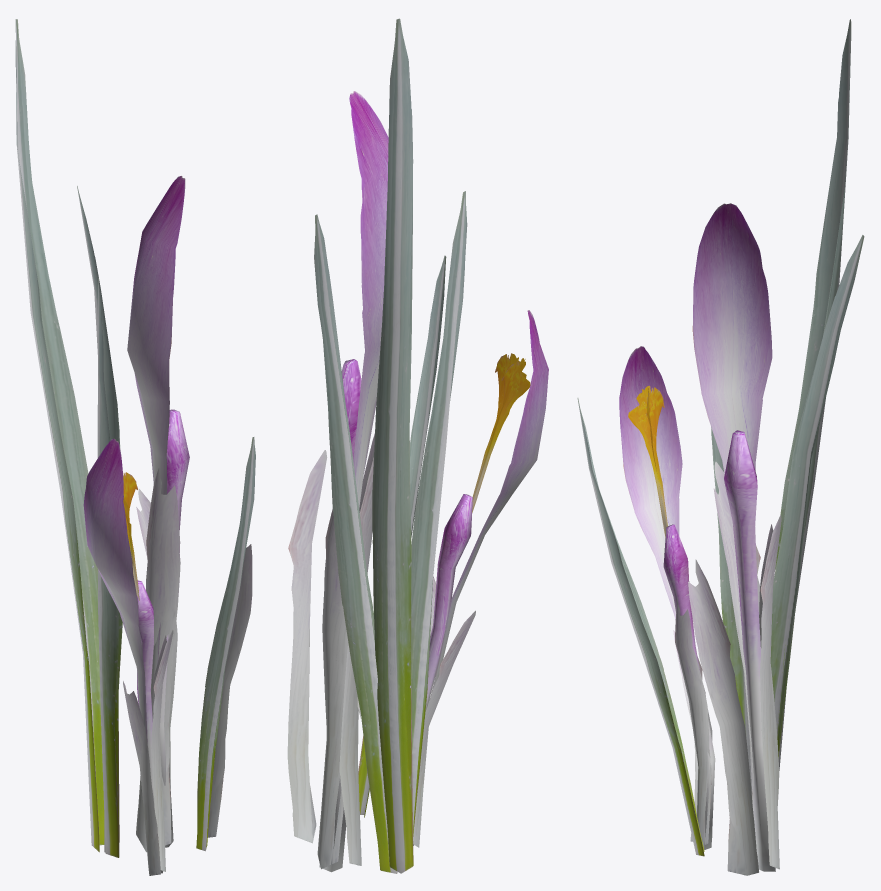
The model's file is flower_crocus_lod1.glb.
3 views of the same model, side by side, from view 1: azimuth 30°, elevation 25°; view 2: azimuth 150°, elevation 25°; view 3: azimuth 270°, elevation 25° (orthographic). The views are drawn at different scales.
Visible parts, largest first — view 1: bq_Flower_Crocus-vernus_B_spring-summer; view 2: bq_Flower_Crocus-vernus_B_spring-summer; view 3: bq_Flower_Crocus-vernus_B_spring-summer.
Boxes of the visible parts, left/top/right/bottom form: bq_Flower_Crocus-vernus_B_spring-summer: left=15, top=19, right=255, bottom=875; bq_Flower_Crocus-vernus_B_spring-summer: left=287, top=18, right=548, bottom=873; bq_Flower_Crocus-vernus_B_spring-summer: left=577, top=19, right=864, bottom=875.
Bounding box in the file's own units: 0.0317 × 0.1313 × 0.0428.
Materials: 2 (2 with a texture image).
